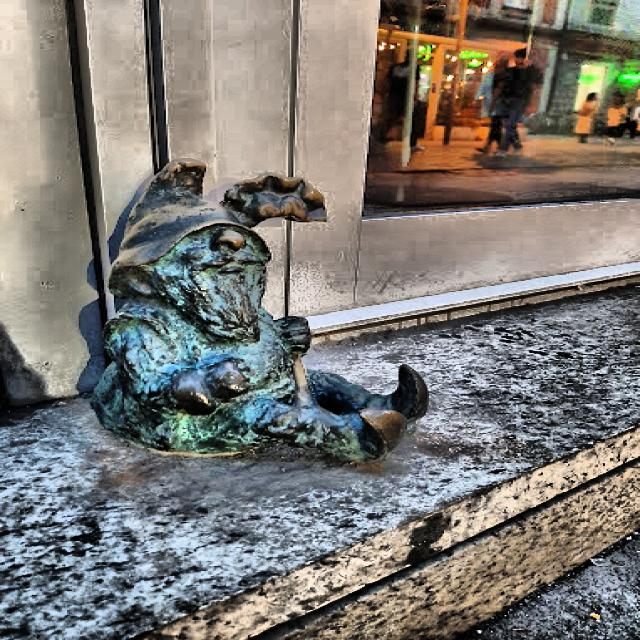Pieroznik: (89, 161, 422, 466)
